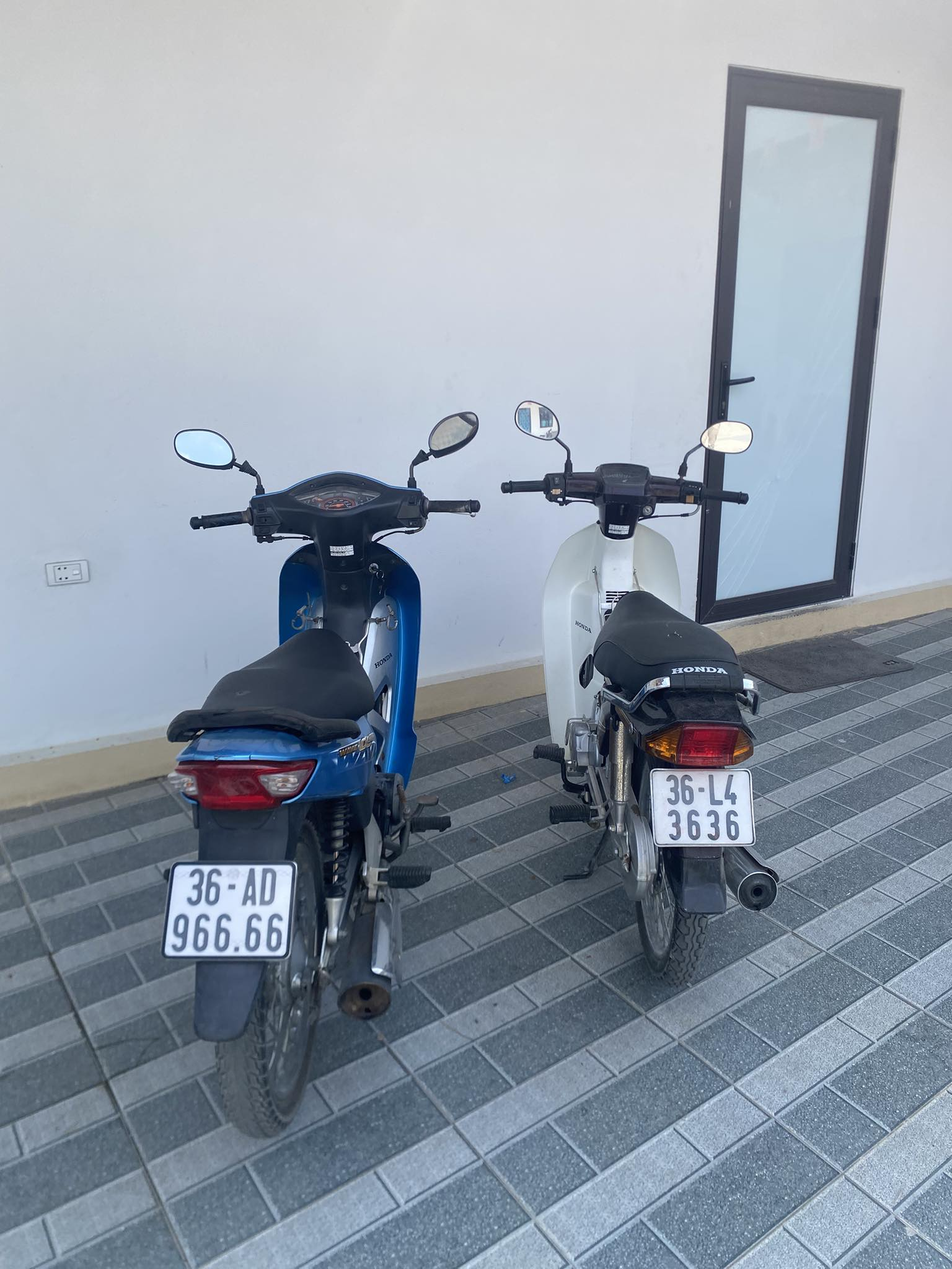bien_so: (159, 850, 300, 972), (638, 759, 770, 862)
